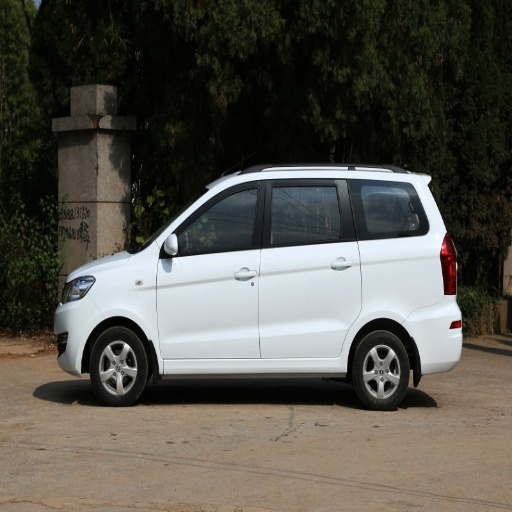back_left_door: (259, 179, 362, 360)
front_left_door: (157, 179, 265, 361)
